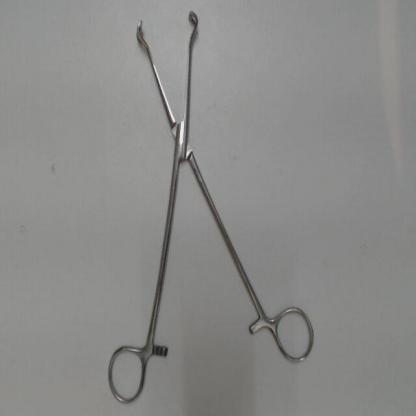8 Babcock Tissue Forceps: (102, 5, 321, 412)
